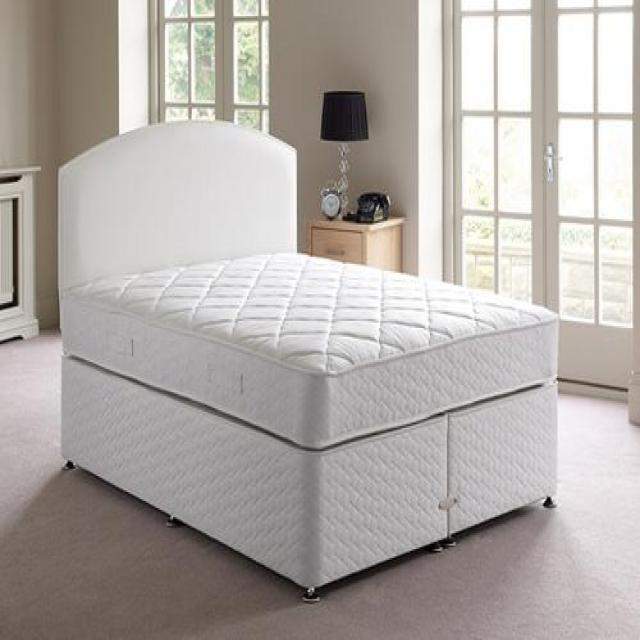bed: (55, 118, 559, 602)
